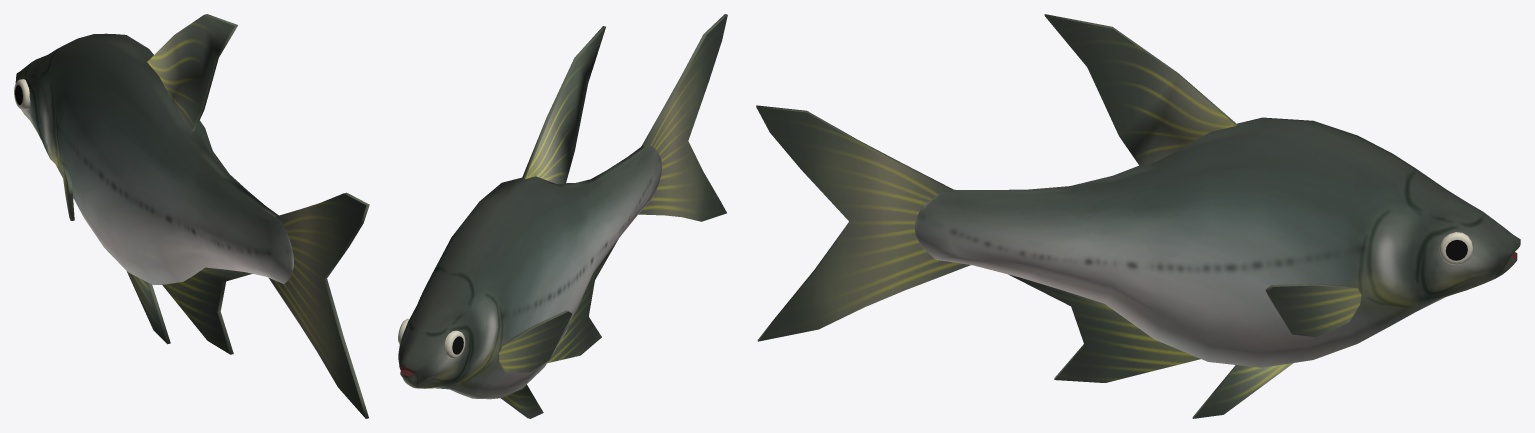
Rendered from Blicka_Bjoerkna.fbx.
The picture shows the model from 3 angles, left to right: view 1: azimuth 30°, elevation 25°; view 2: azimuth 150°, elevation 25°; view 3: azimuth 270°, elevation 25°; orthographic projection. The views are drawn at different scales.
Parts seen in each view (by area): view 1: BlickaBjoerkna.002; view 2: BlickaBjoerkna.002; view 3: BlickaBjoerkna.002.
Boxes of the visible parts, x1=… form: BlickaBjoerkna.002: x1=14, y1=14, x2=369, y2=418; BlickaBjoerkna.002: x1=398, y1=14, x2=727, y2=418; BlickaBjoerkna.002: x1=756, y1=14, x2=1520, y2=418.
Size of the model in its own units: 9.34 by 24.5 by 42.1.
Materials: 1 (1 with a texture image).
